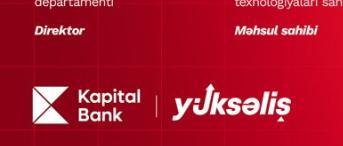Kapital Bank: (29, 82, 71, 126)
